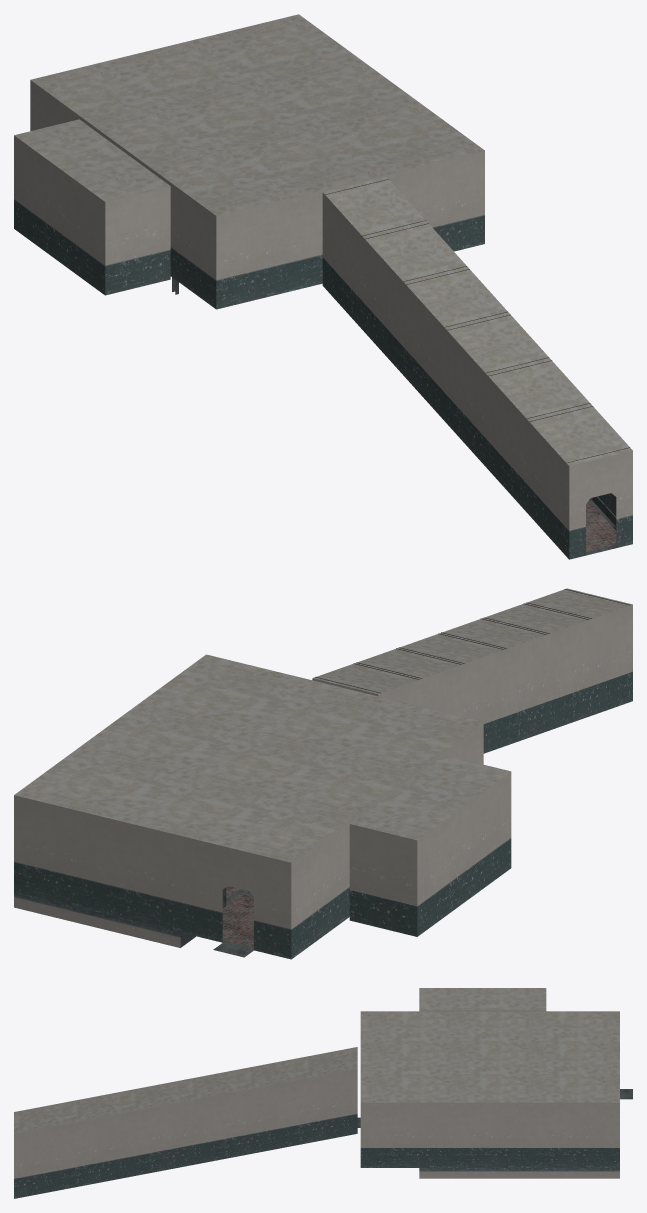
File: HallArea.FBX
3 views of the same model, one above another, from view 1: azimuth 30°, elevation 25°; view 2: azimuth 150°, elevation 25°; view 3: azimuth 270°, elevation 25° (orthographic). The views are drawn at different scales.
Parts seen in each view (by area): view 1: HallArea; view 2: HallArea; view 3: HallArea.
Part boxes in pixels (<box>): HallArea: <box>14,14,632,559</box>; HallArea: <box>14,588,632,959</box>; HallArea: <box>14,988,632,1198</box>.
Size of the model in its own units: 1395 by 739 by 3179.
1 material, 1 textured.
